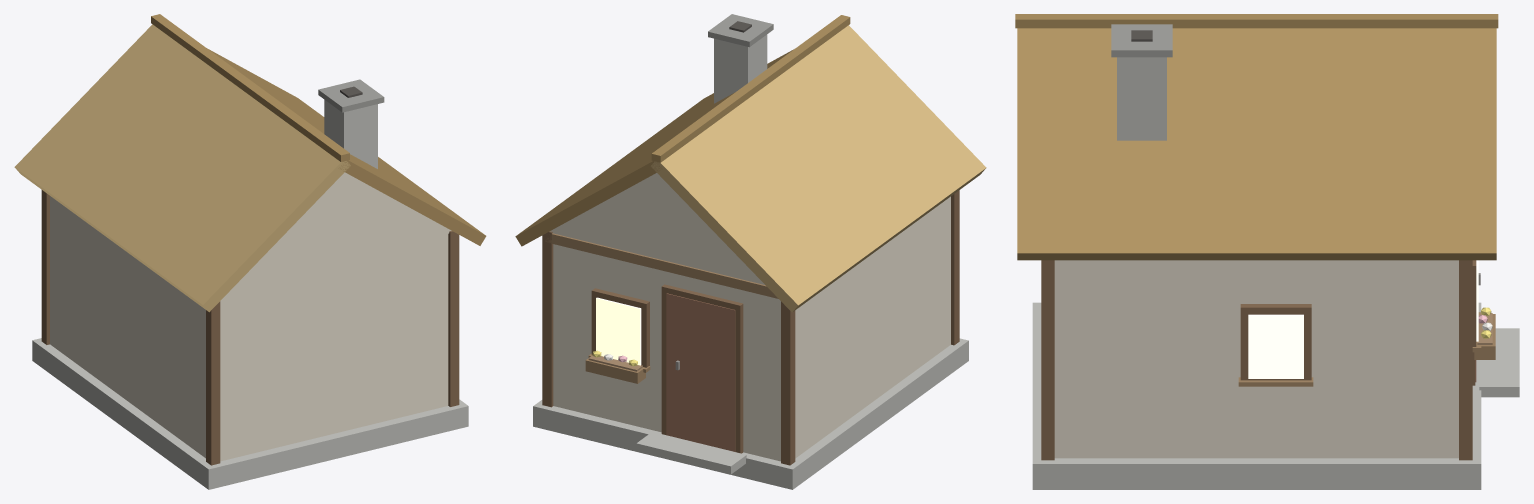
Rendered from village_cottage_a.glb.
3 views of the same model, side by side, from view 1: azimuth 30°, elevation 25°; view 2: azimuth 150°, elevation 25°; view 3: azimuth 270°, elevation 25° (orthographic). The views are drawn at different scales.
Parts seen in each view (by area): view 1: village_cottage_a; view 2: village_cottage_a; view 3: village_cottage_a.
Part boxes in pixels (x1,y1,x2,y2): village_cottage_a: [14, 14, 486, 489]; village_cottage_a: [515, 14, 986, 489]; village_cottage_a: [1015, 14, 1519, 489].
Size of the model in its own units: 4.34 by 4.71 by 5.26.
